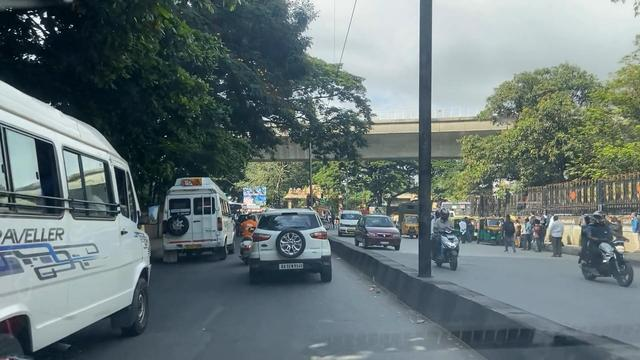HMV: (0, 83, 148, 337), (173, 178, 232, 259)
LMV: (260, 211, 335, 277)
